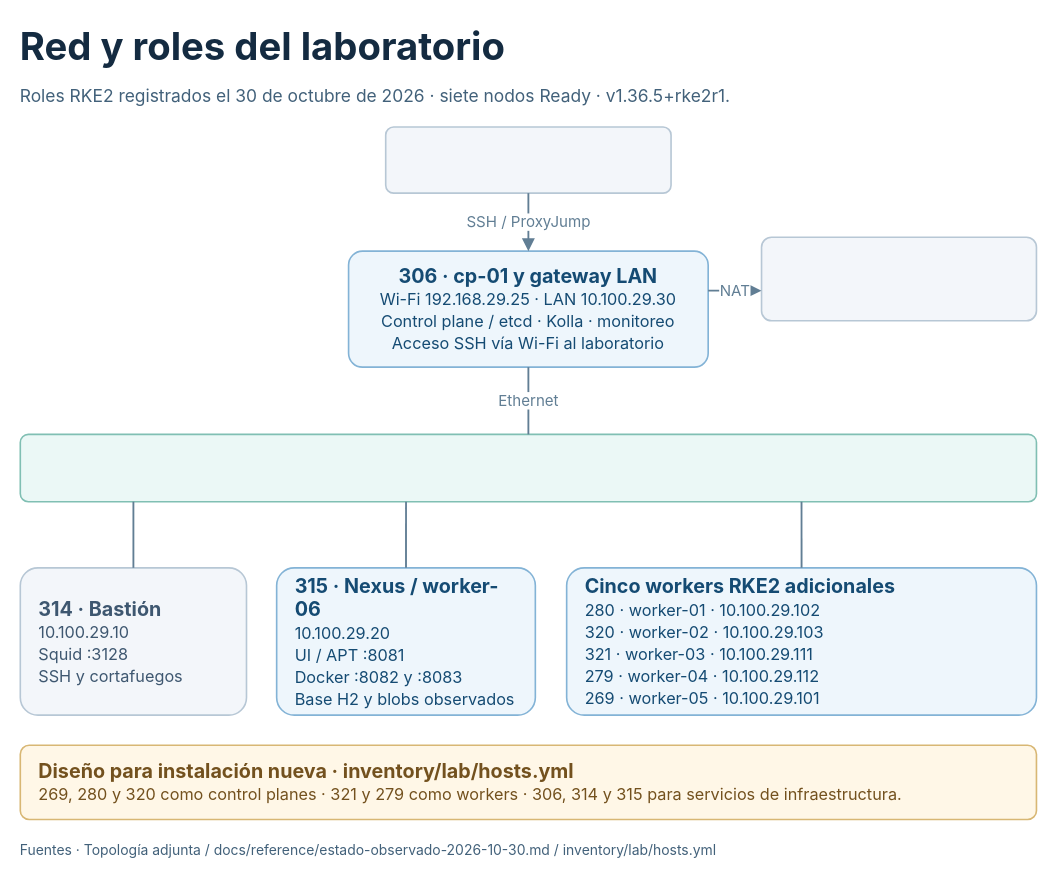
Some shapes in this 1058 by 882 pixel diagram are drawn without their labels. The shapes that lost their labels are listed below. From the top down, each one's box as (x1, y1, x2, y2) in pixels, then its label:
(384, 126, 671, 193): PC de administración Red de gestión · SSH y túneles
(760, 236, 1037, 321): Router de oficina Salida hacia Internet
(19, 433, 1037, 502): Switch privado de los ocho nodos LAN de laboratorio 10.100.29.0/24
